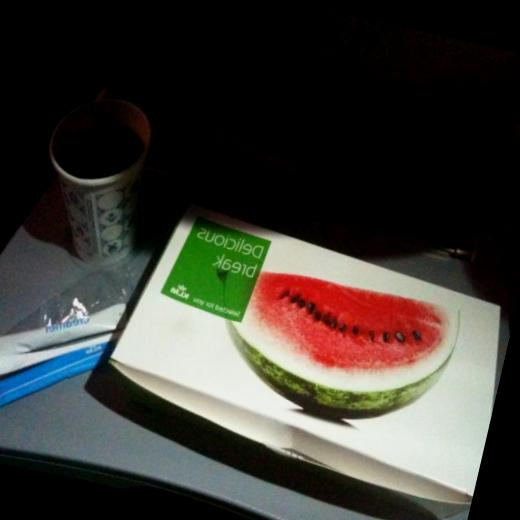Cherry: (190, 250, 463, 443)
